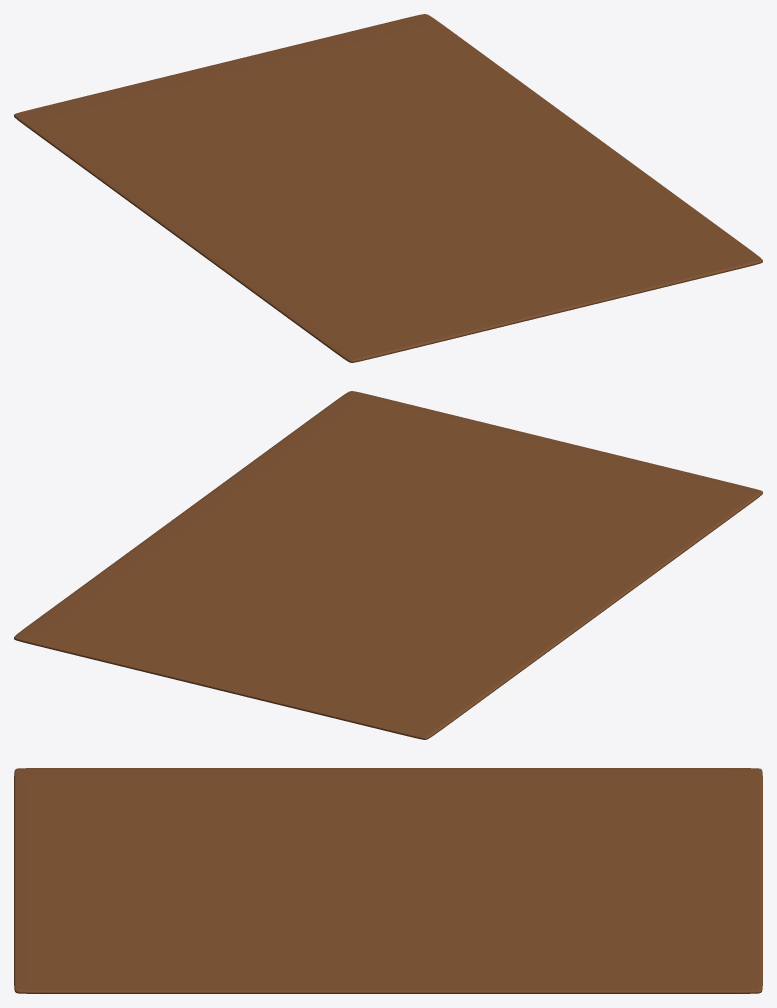
File: Carpet.fbx
3 views of the same model, one above another, from view 1: azimuth 30°, elevation 25°; view 2: azimuth 150°, elevation 25°; view 3: azimuth 270°, elevation 25° (orthographic). The views are drawn at different scales.
Parts seen in each view (by area): view 1: Cube; view 2: Cube; view 3: Cube.
Part boxes in pixels (box(x1,y1,x2,y2)): Cube: box(14, 14, 762, 362); Cube: box(14, 391, 762, 739); Cube: box(14, 768, 762, 993).
Size of the model in its own units: 200 by 1.62 by 283.
